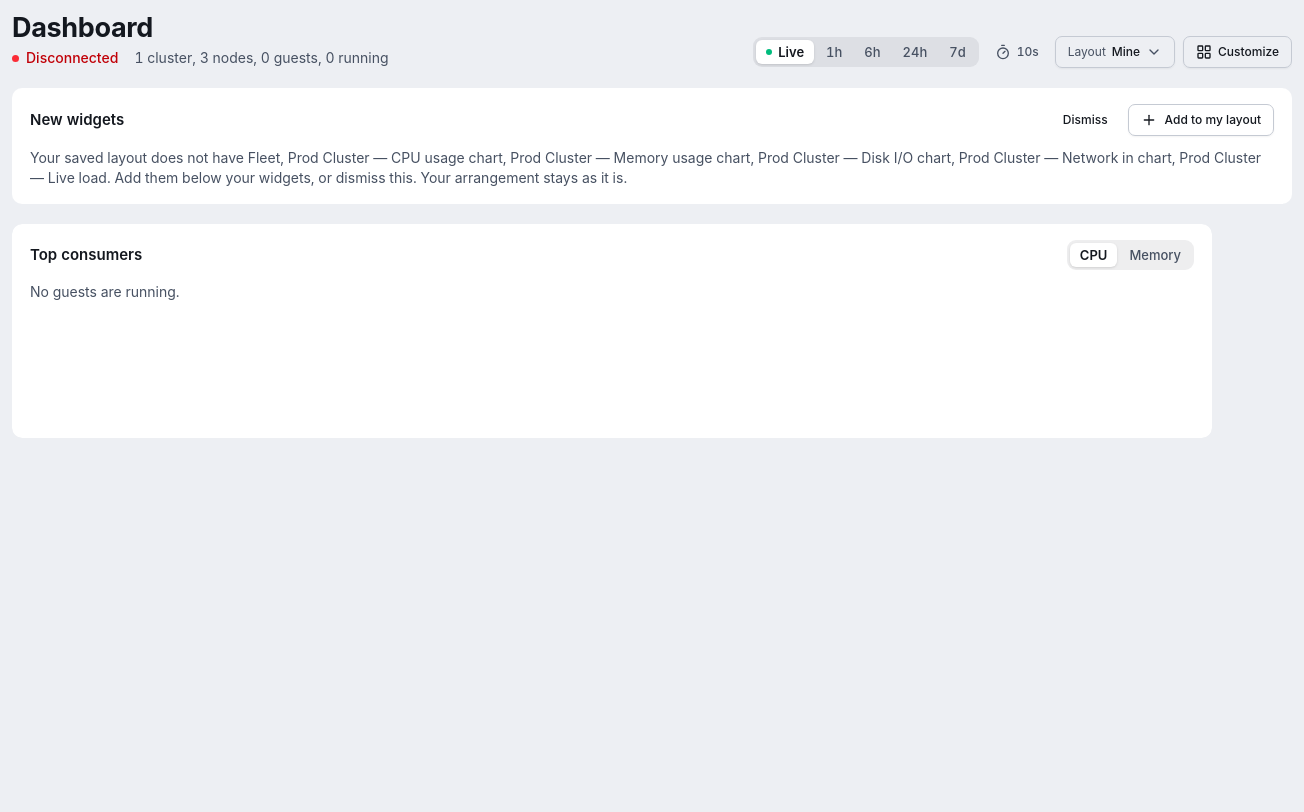
Test: DashboardPage › the offer of widgets a saved layout lacks › Add to my layout records the offer and closes it
The image size is (1304, 812).
Expected: the text "does not have Fleet" is shown, [30,149,1261,186]
Click the button "Add to my layout". click: (1201, 120)
box: [1128,104,1274,136]
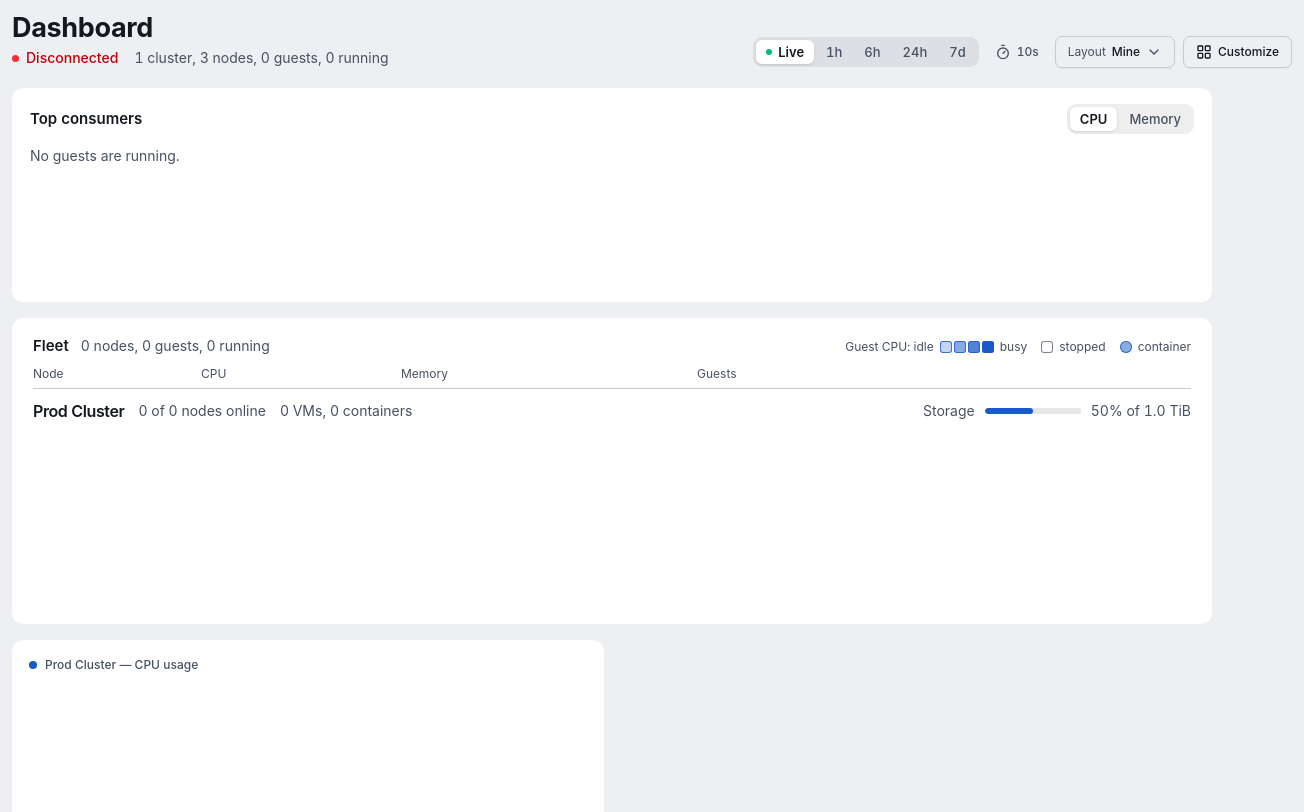
Now the text "does not have Fleet" is gone
